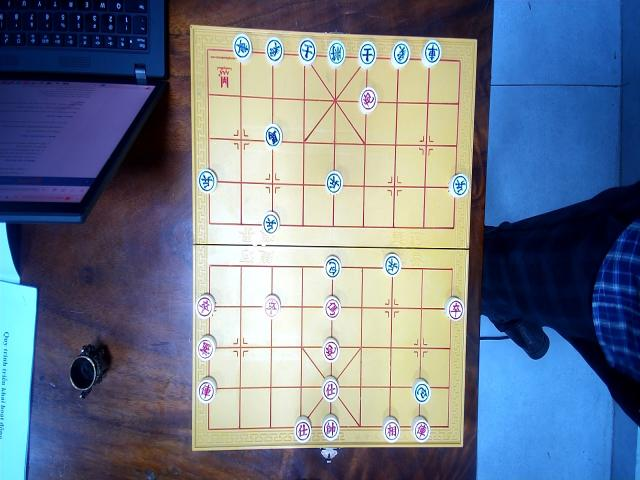piece: (326, 39, 346, 68), (232, 33, 252, 62), (448, 172, 469, 199), (390, 41, 410, 69), (422, 39, 442, 67), (264, 37, 284, 65), (196, 335, 216, 363), (358, 86, 378, 114), (293, 415, 312, 444), (298, 37, 317, 66), (196, 377, 216, 404), (411, 378, 431, 405), (197, 168, 217, 194), (444, 296, 464, 322), (195, 294, 215, 320), (381, 416, 400, 443), (411, 416, 430, 443), (263, 123, 282, 150), (322, 414, 340, 441), (322, 337, 340, 364), (358, 41, 376, 68), (321, 376, 339, 402), (323, 295, 341, 320), (262, 211, 280, 236), (325, 170, 343, 195), (263, 294, 281, 319), (383, 253, 401, 277), (324, 254, 342, 278)
